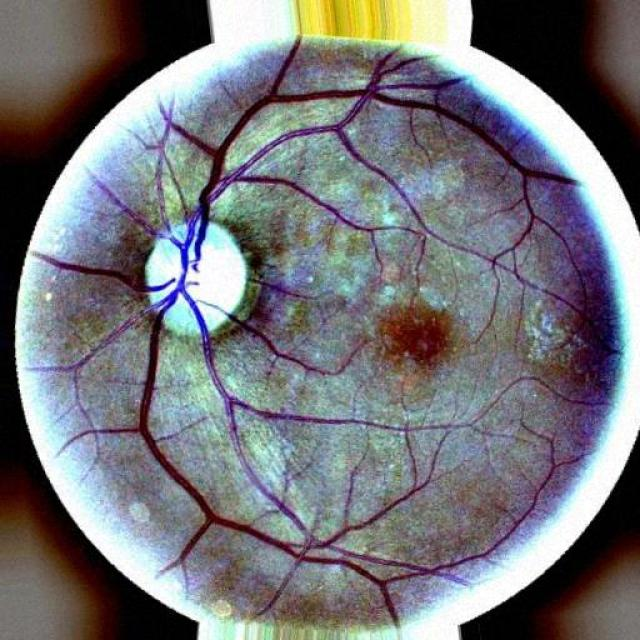Macula: (379, 302, 451, 368)
Nerves: (30, 41, 589, 624)
Optic Disk: (145, 218, 246, 335)
